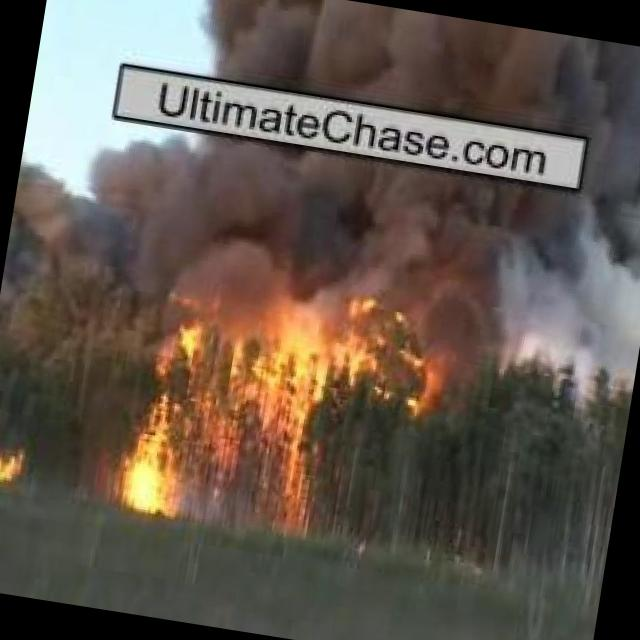Fire: (111, 294, 331, 550), (338, 292, 454, 416), (0, 439, 40, 496)
Smoke: (0, 111, 640, 406), (201, 0, 640, 147)
